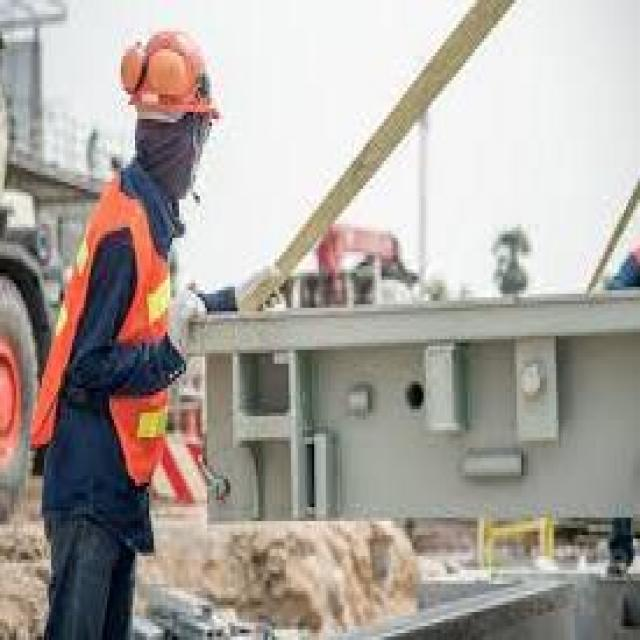Reflective-Jacket: (35, 168, 202, 503)
Safety-Helmet: (119, 26, 226, 128)
